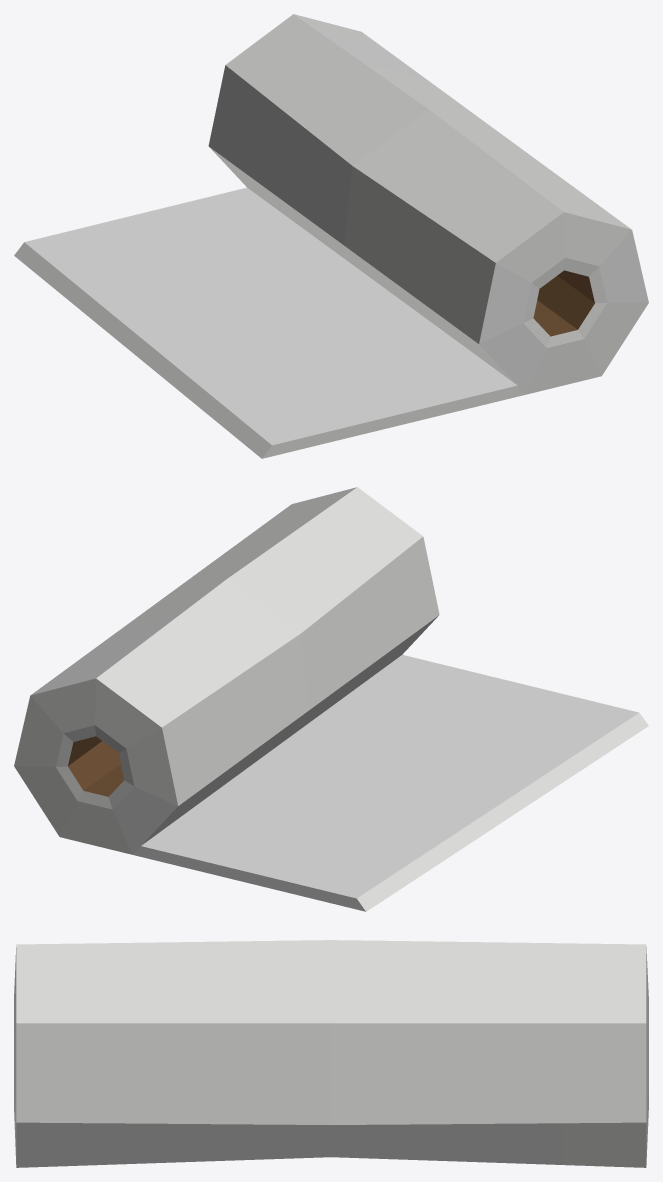
File: fiberglass.glb
The picture shows the model from 3 angles, top to bottom: view 1: azimuth 30°, elevation 25°; view 2: azimuth 150°, elevation 25°; view 3: azimuth 270°, elevation 25°; orthographic projection. The views are drawn at different scales.
Parts seen in each view (by area): view 1: fiberglass; view 2: fiberglass; view 3: fiberglass.
Part boxes in pixels (box(x1,y1,x2,y2)): fiberglass: box(14, 14, 648, 458); fiberglass: box(14, 487, 648, 911); fiberglass: box(14, 940, 648, 1167).
Size of the model in its own units: 0.6679 by 0.2891 by 0.8062.
Materials: 1 (1 with a texture image).
